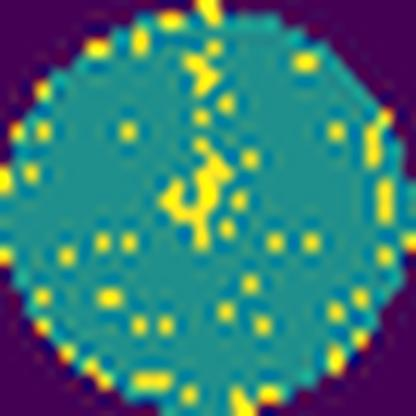Center: (158, 136, 240, 254)
